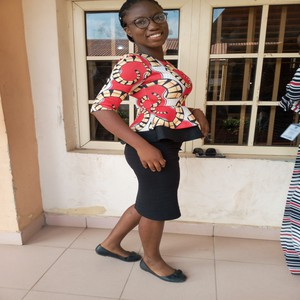Fulokoja_female_student: (108, 7, 183, 268)
